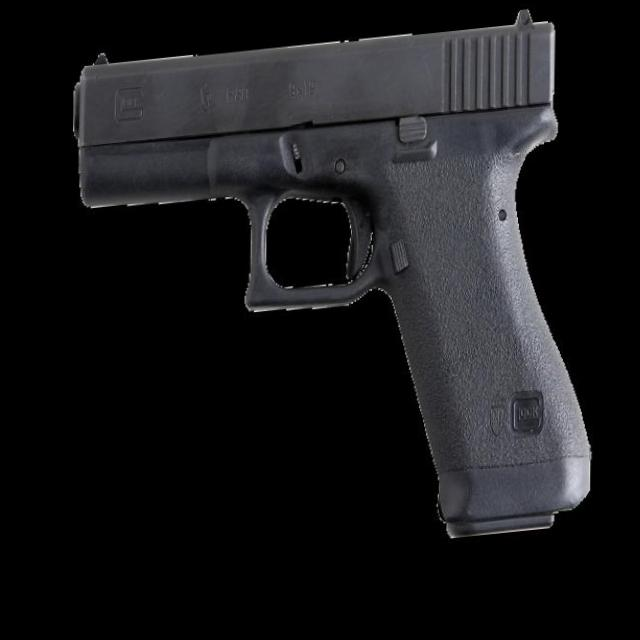handgun: (53, 0, 607, 597)
